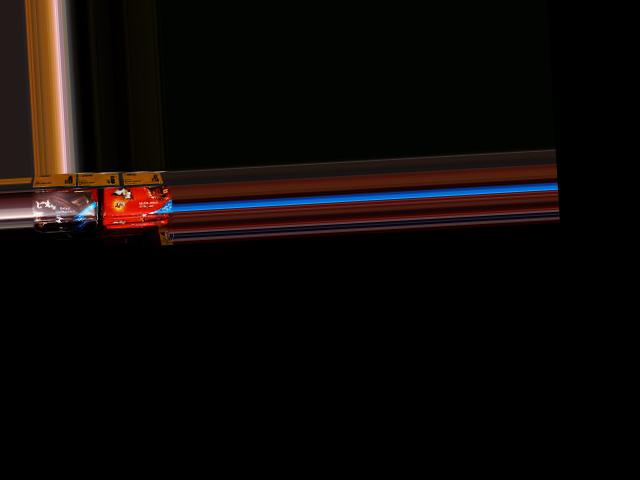chocolate: (29, 181, 92, 222)
